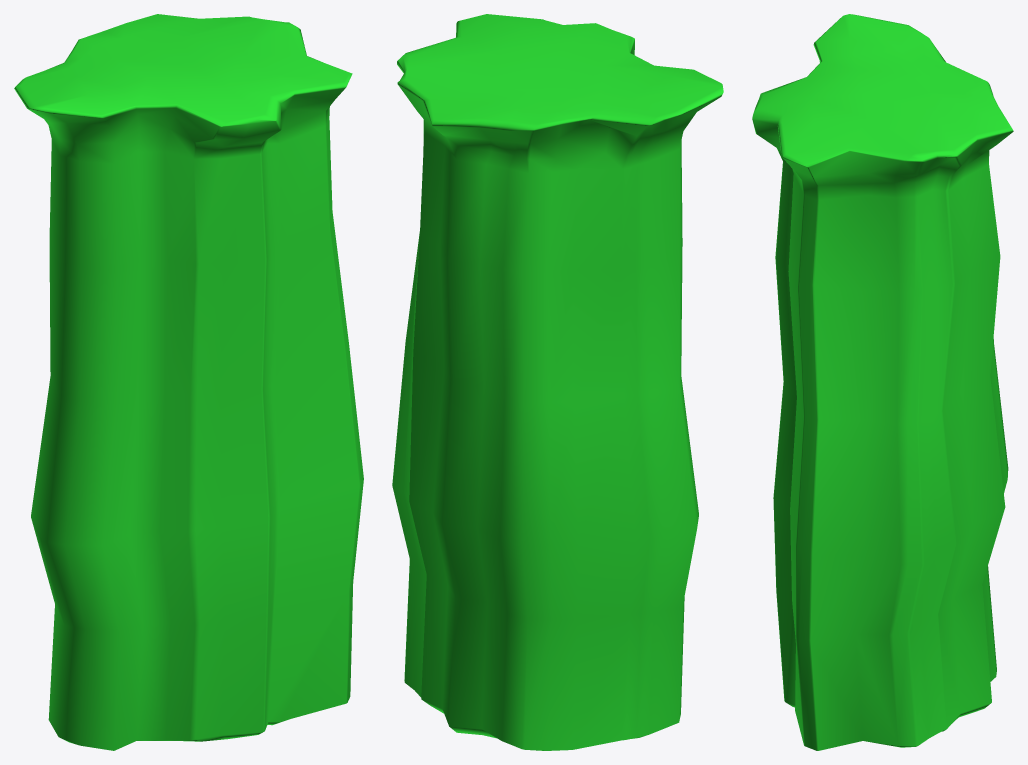
Rendered from long_rock_03.fbx.
3 views of the same model, side by side, from view 1: azimuth 30°, elevation 25°; view 2: azimuth 150°, elevation 25°; view 3: azimuth 270°, elevation 25° (orthographic). The views are drawn at different scales.
Parts seen in each view (by area): view 1: rock_long_03; view 2: rock_long_03; view 3: rock_long_03.
Part boxes in pixels (x1=…): rock_long_03: x1=14, y1=14, x2=363, y2=750; rock_long_03: x1=392, y1=14, x2=723, y2=750; rock_long_03: x1=752, y1=14, x2=1013, y2=750.
Size of the model in its own units: 1818 by 3648 by 1427.
